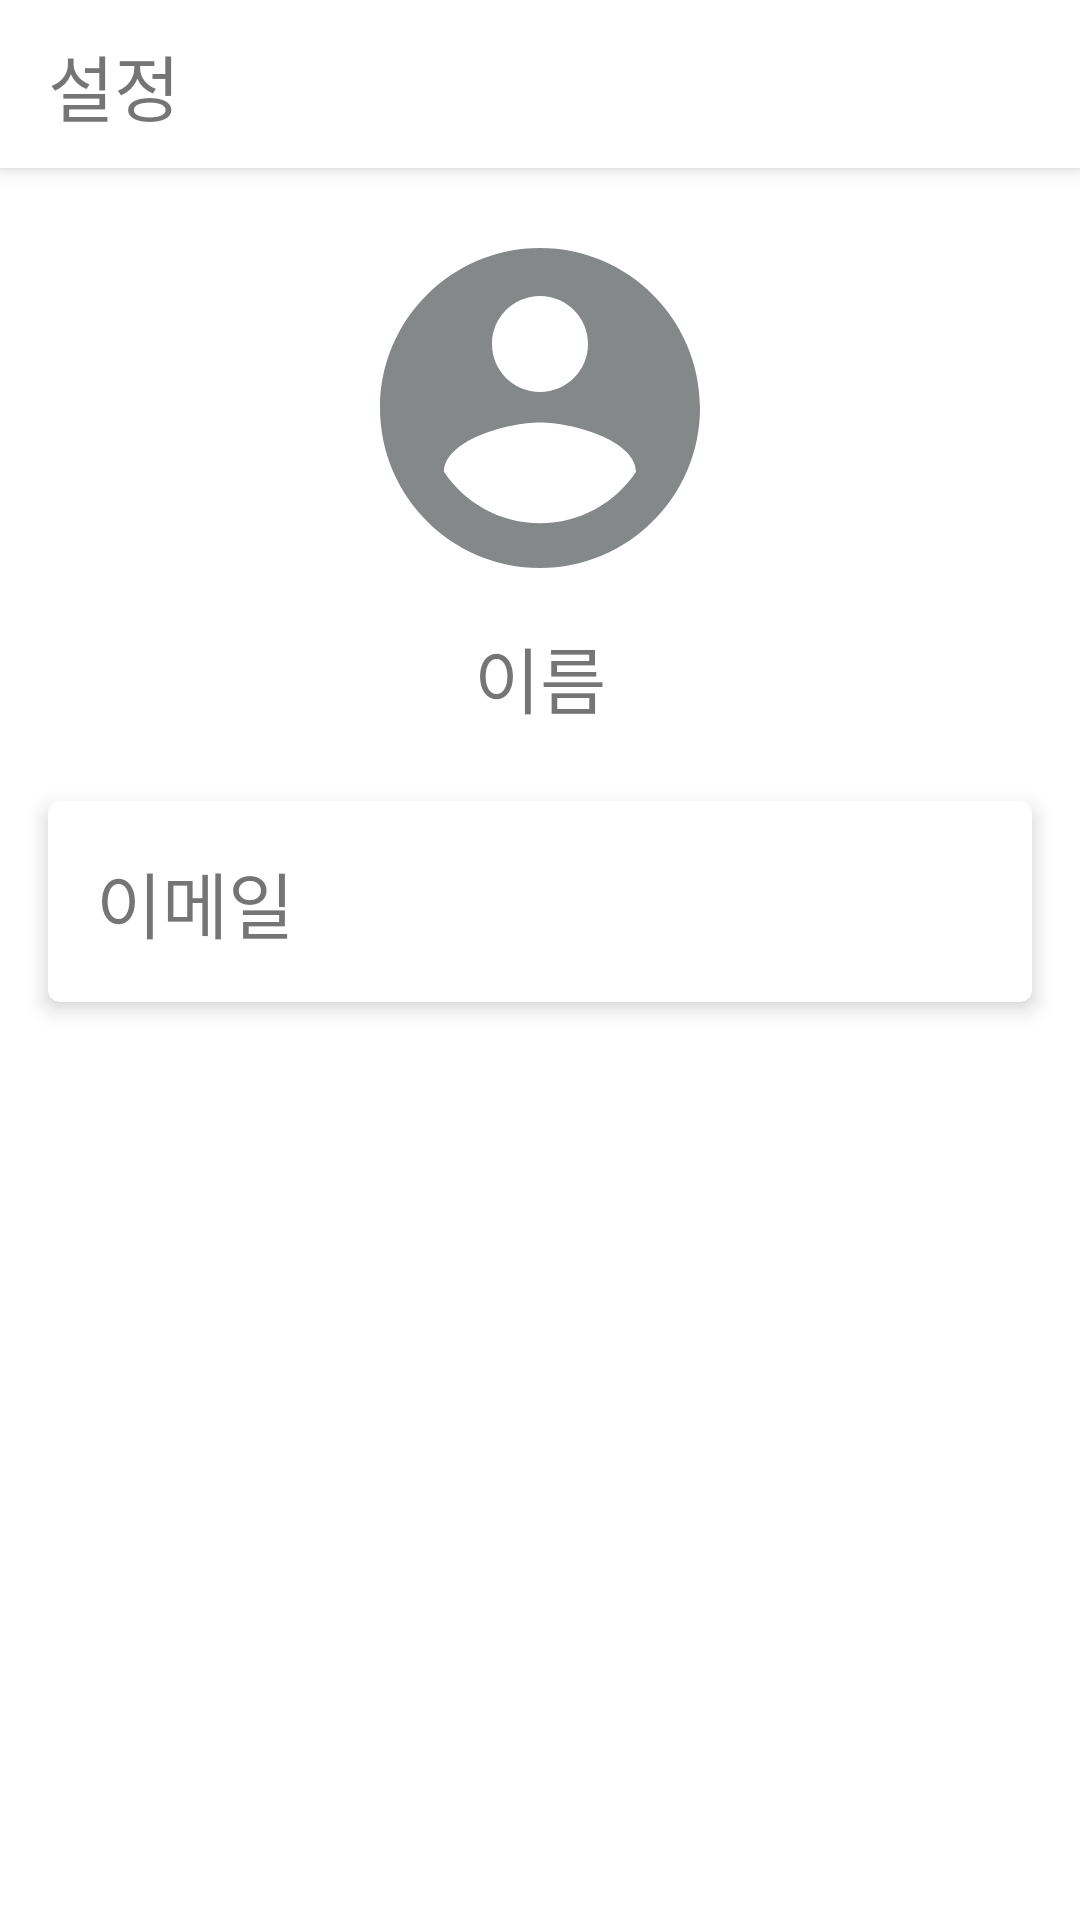

Screen size 1080*1920. Icon name, then its box in pixels as (x1, y1, x2, y2):
account circle: (380, 248, 700, 568)
